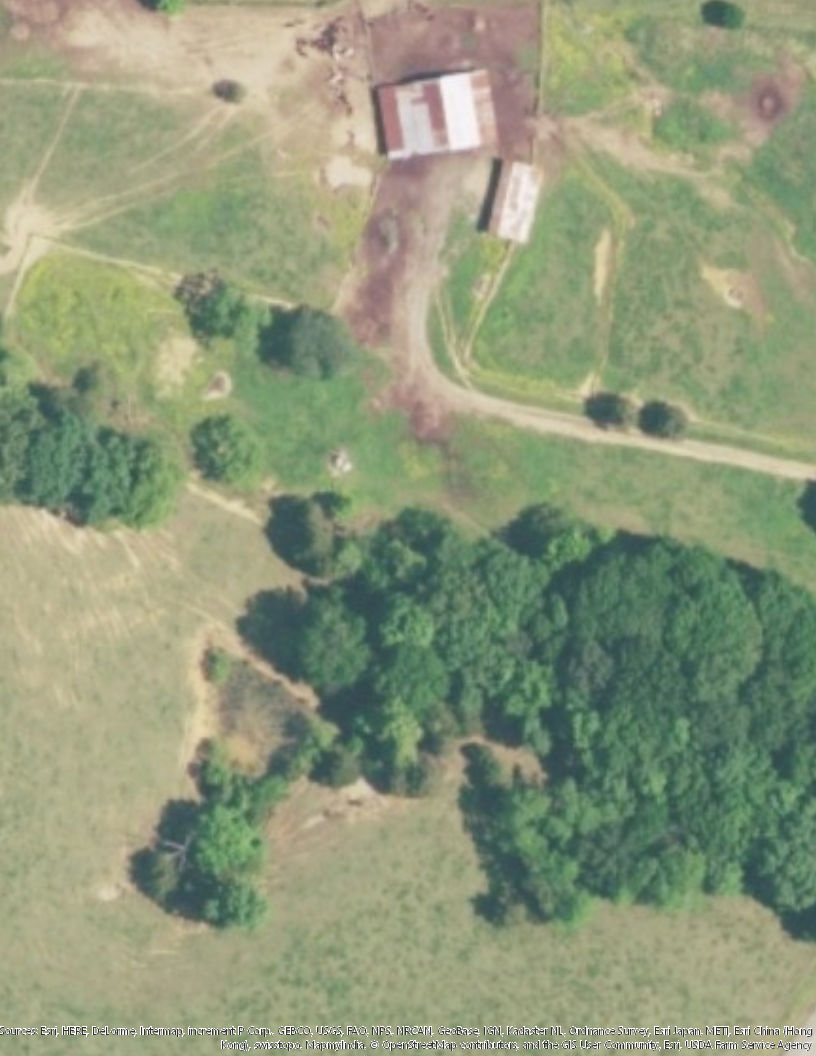cafo: (367, 63, 507, 159)
